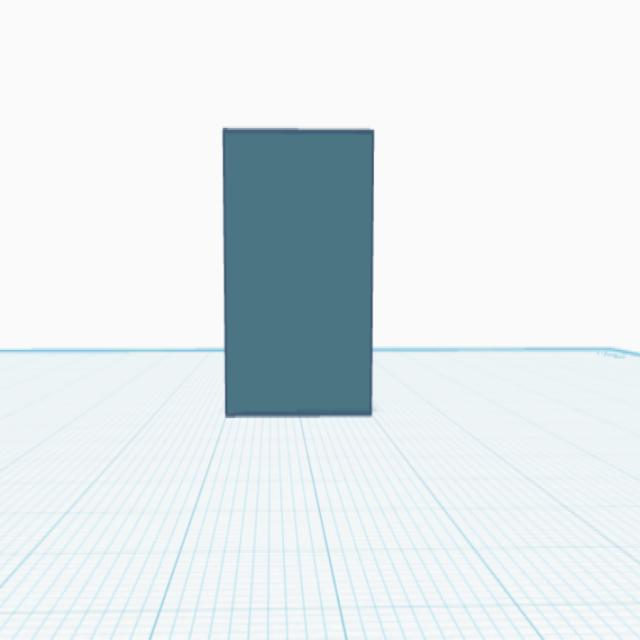cube: (218, 116, 380, 428)
